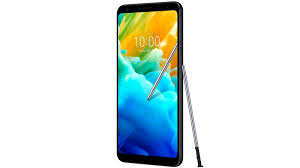lg: (110, 1, 188, 168)
